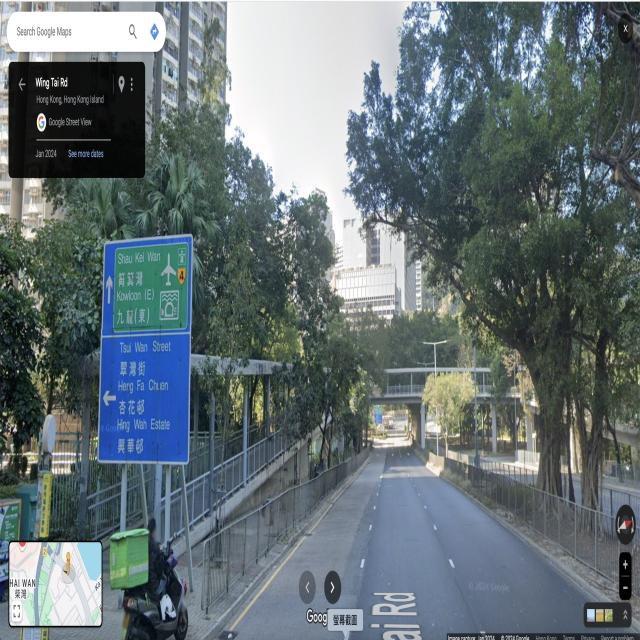Direction-Sign: (100, 236, 192, 461)
